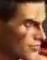kevin: (5, 0, 46, 59)
